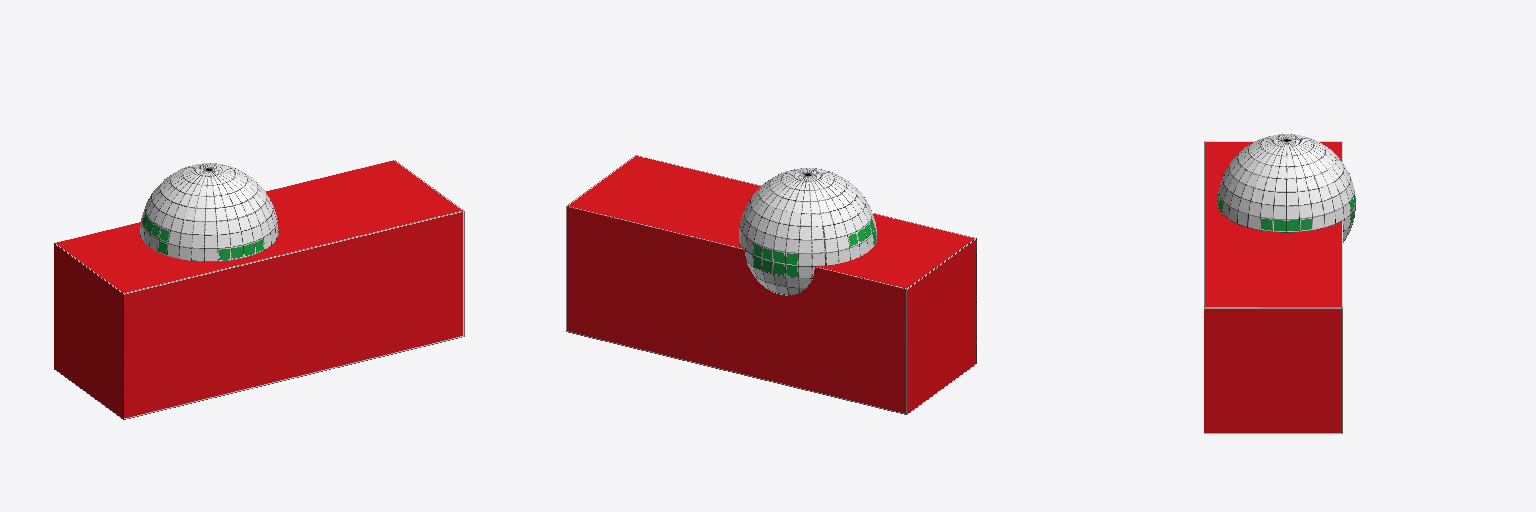
3 views of the same model, side by side, from view 1: azimuth 30°, elevation 25°; view 2: azimuth 150°, elevation 25°; view 3: azimuth 270°, elevation 25° (orthographic).
Visible parts, largest first — view 1: Cube; view 2: Cube; view 3: Cube.
Part boxes in pixels (x1,y1,x2,y2): Cube: (54, 160, 464, 419); Cube: (566, 155, 976, 414); Cube: (1204, 134, 1355, 433).
Size of the model in its own units: 5.65 by 3 by 2.19.
1 materials, 1 textured.